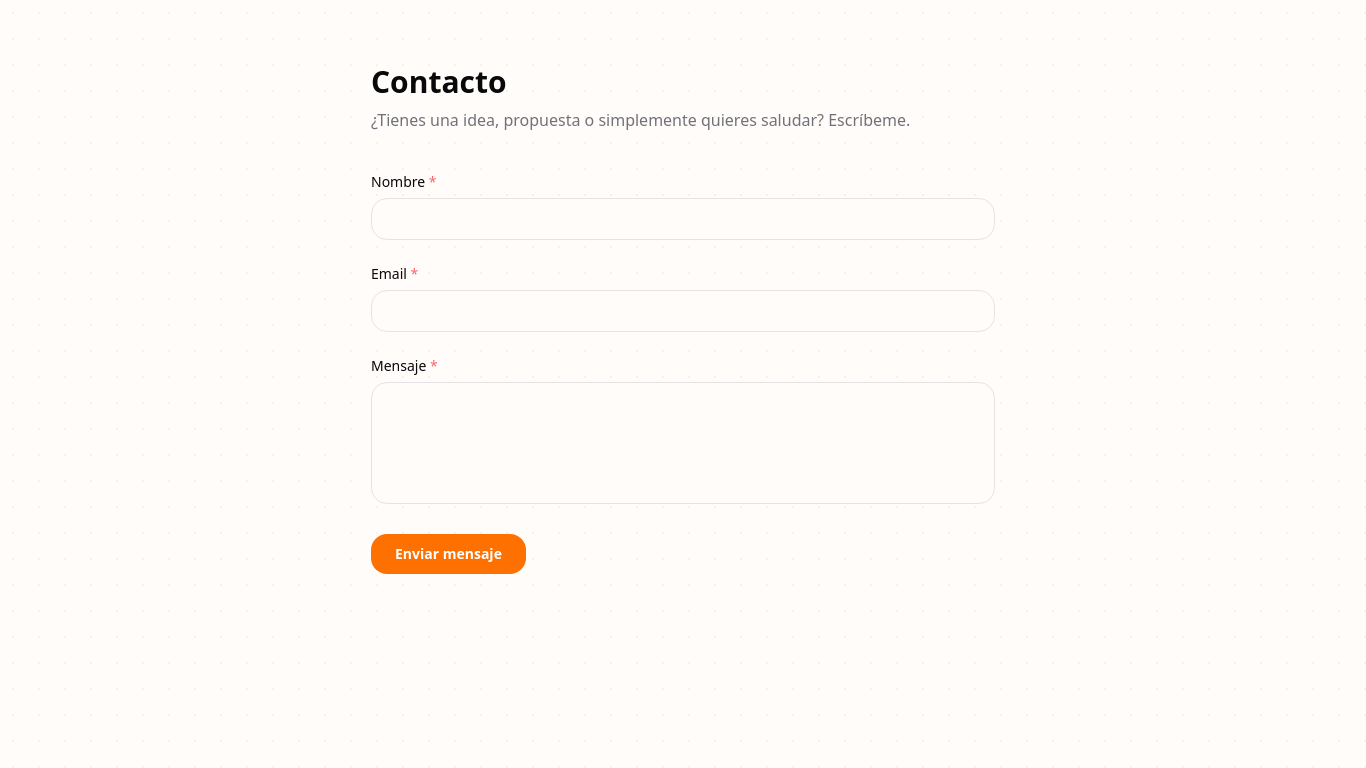
Test case: Contact › shows validation error when email is invalid
In the field labelled "Nombre *": [683, 219] box top-left (371, 198), bottom-right (995, 240), type "Ana García"
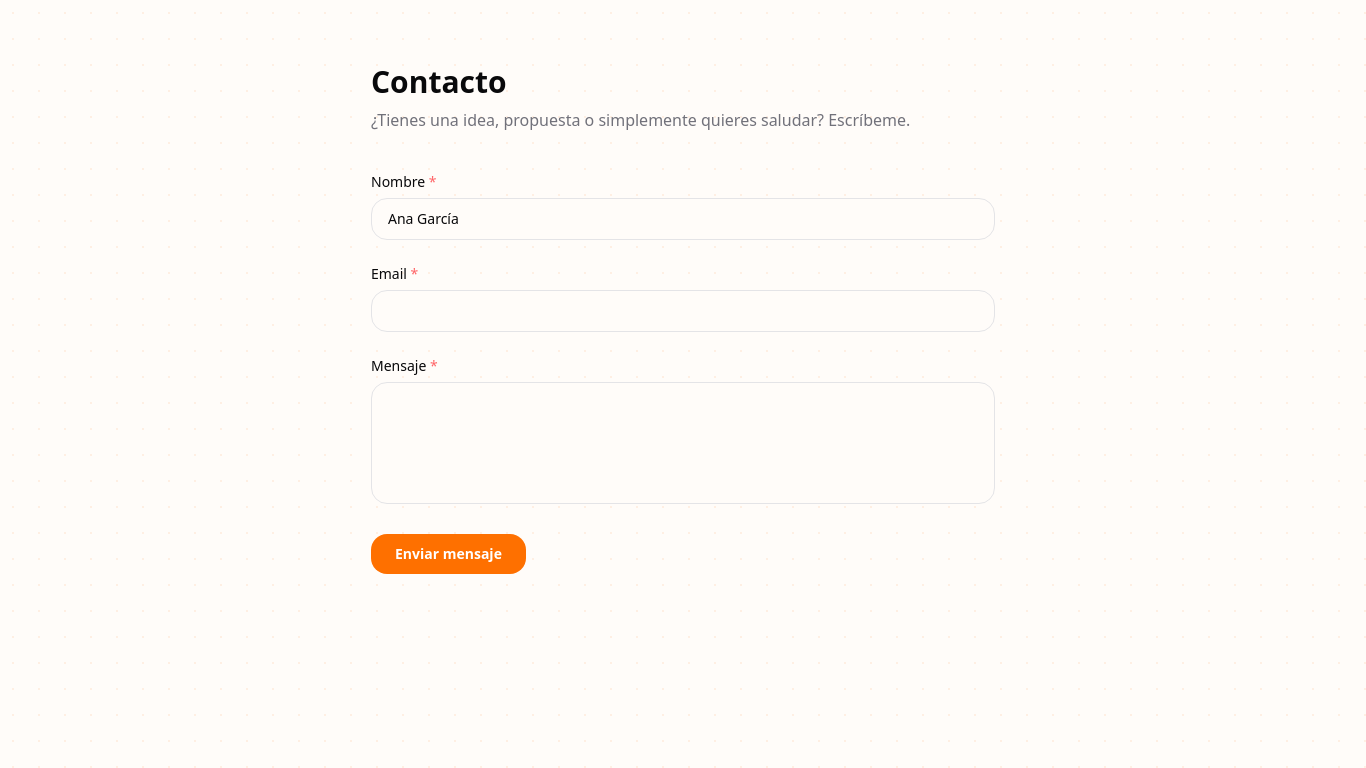
In the field labelled "Email *": [683, 311] box top-left (371, 290), bottom-right (995, 332), type "not-an-email"
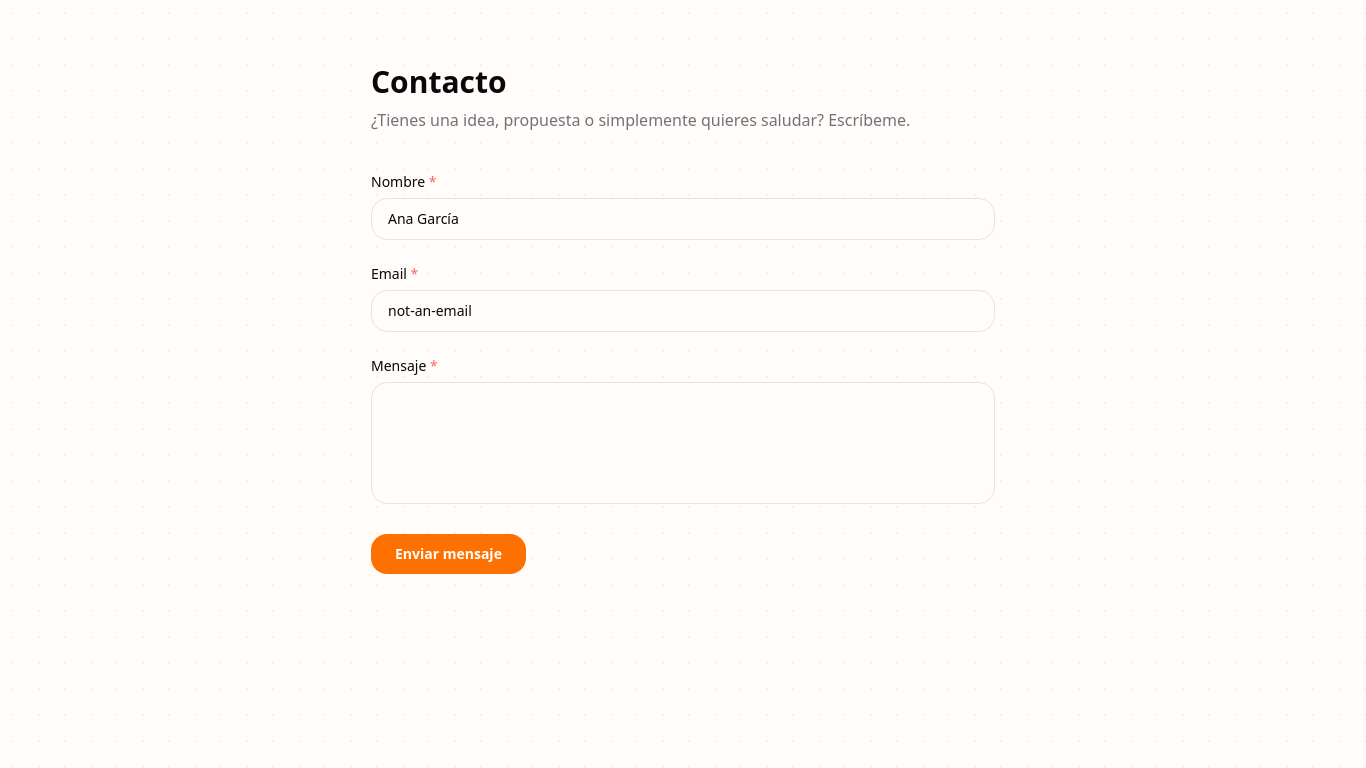
In the text box labelled "Mensaje *": [683, 443] box top-left (371, 382), bottom-right (995, 504), type "Hola, me gustaría hablar contigo."
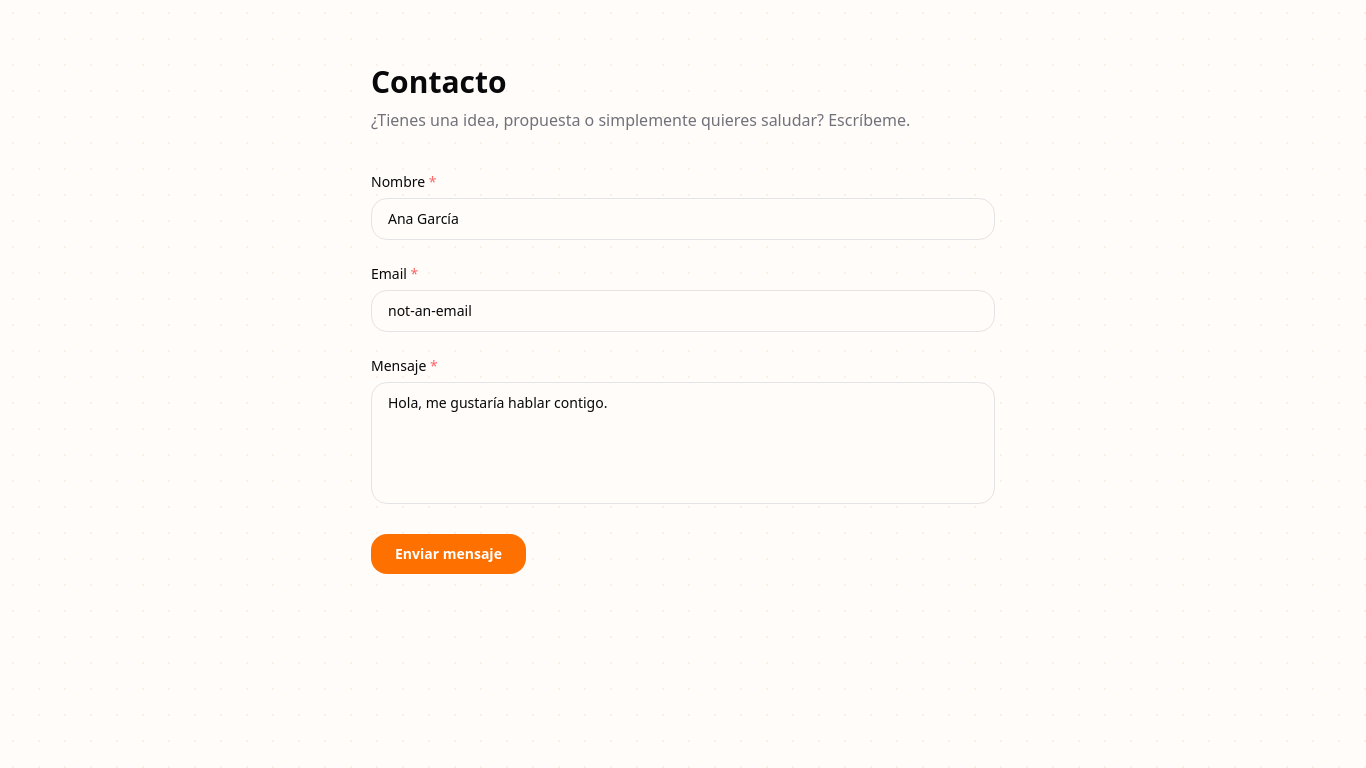
Click the button "Enviar mensaje": [448, 554] box top-left (371, 534), bottom-right (526, 574)
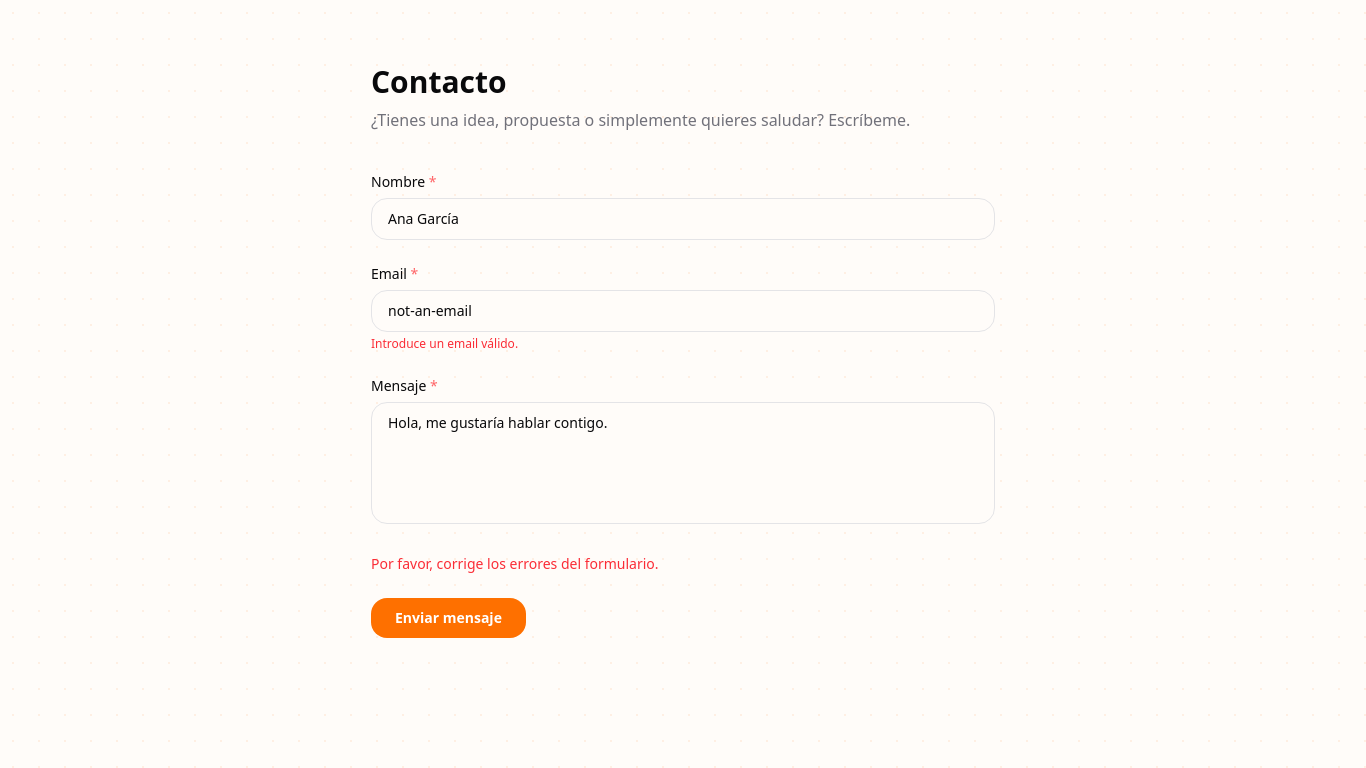
Expected: the text "Introduce un email válido." is shown, top-left (371, 335), bottom-right (518, 352)
